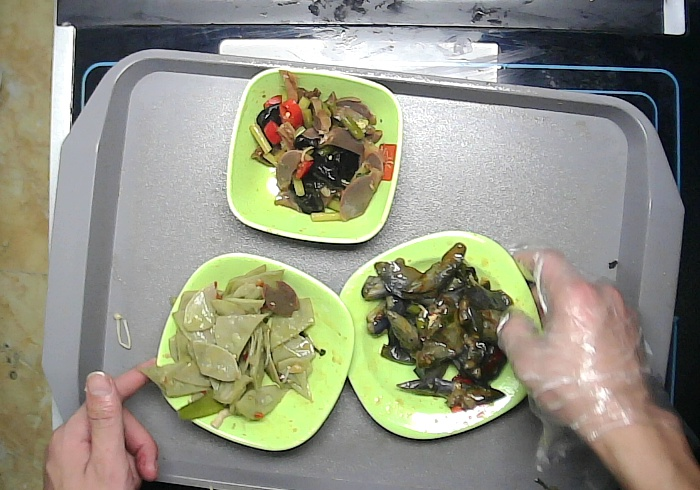SHKJ-Lv_Se_Cai_Die: (155, 251, 355, 451)
SHKJ-Lv_Se_Si_Fang_Cai_Die: (339, 230, 546, 439)
SHKJ-Lv_Se_Xiao_Fang_Die: (227, 68, 403, 244)
